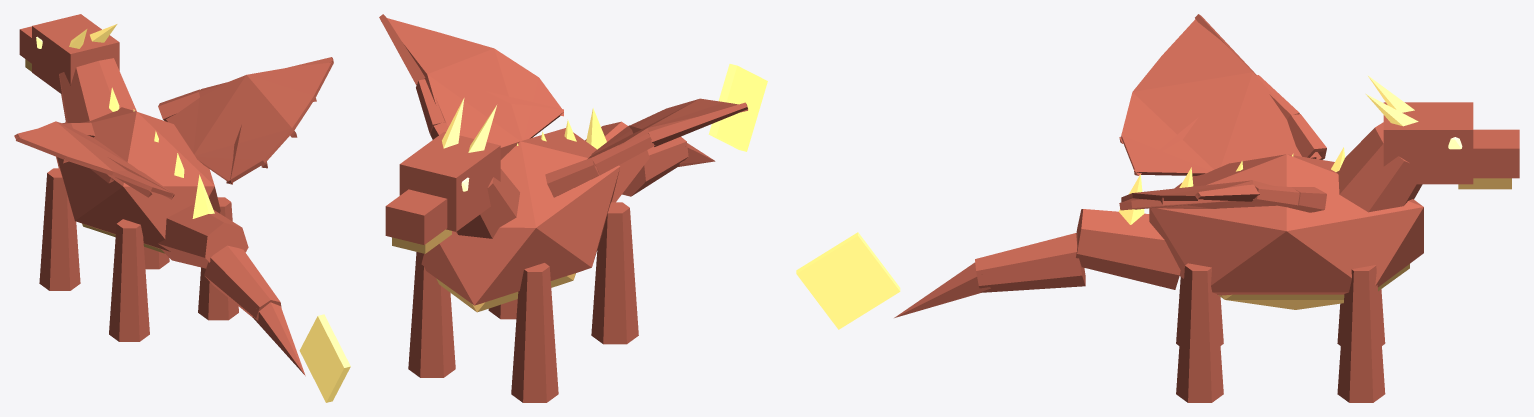
The model's file is dragon_ember.glb.
The picture shows the model from 3 angles, left to right: view 1: azimuth 30°, elevation 25°; view 2: azimuth 150°, elevation 25°; view 3: azimuth 270°, elevation 25°; orthographic projection. The views are drawn at different scales.
Parts seen in each view (by area): view 1: DragonBody; view 2: DragonBody; view 3: DragonBody.
Boxes of the visible parts, bbox=[...] form: DragonBody: bbox=[14, 14, 350, 402]; DragonBody: bbox=[379, 14, 767, 402]; DragonBody: bbox=[796, 14, 1519, 402].
Size of the model in its own units: 2.72 by 2 by 4.6.
